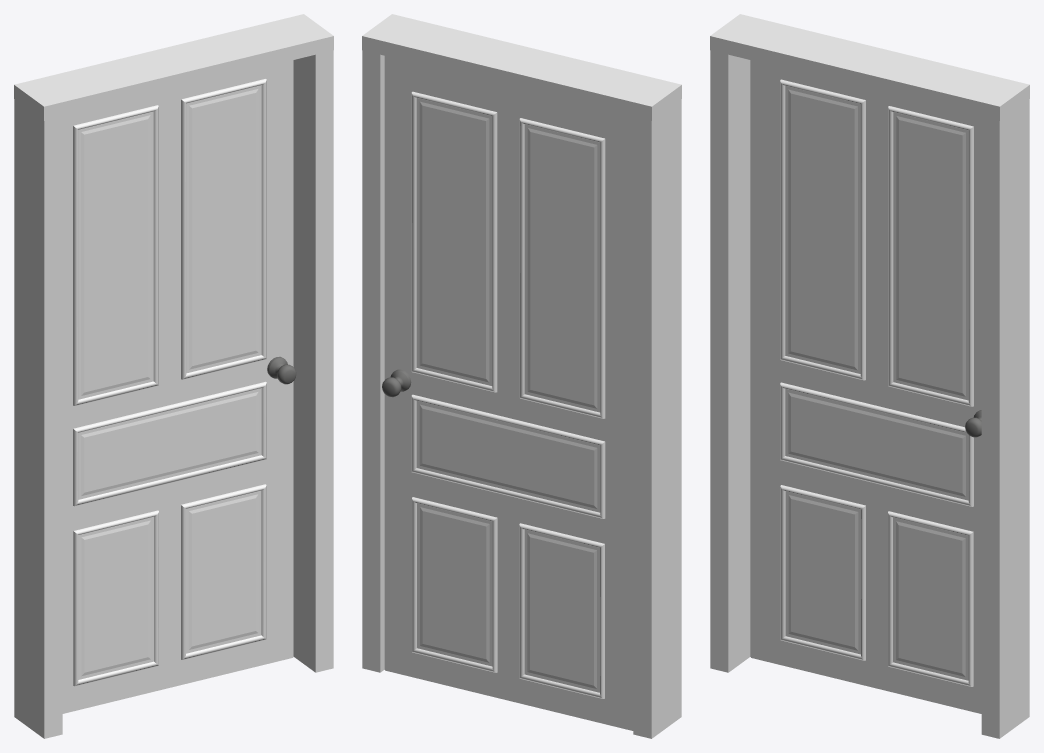
File: Door_01.fbx
3 views of the same model, side by side, from view 1: azimuth 30°, elevation 25°; view 2: azimuth 150°, elevation 25°; view 3: azimuth 330°, elevation 25° (orthographic).
Visible parts, largest first — view 1: Door_01, Door_01_Frame; view 2: Door_01, Door_01_Frame; view 3: Door_01, Door_01_Frame.
Boxes of the visible parts, x1=… form: Door_01: x1=62, y1=60, x2=296, y2=713; Door_01_Frame: x1=14, y1=14, x2=333, y2=738; Door_01: x1=382, y1=56, x2=633, y2=730; Door_01_Frame: x1=362, y1=14, x2=681, y2=738; Door_01: x1=750, y1=60, x2=981, y2=713; Door_01_Frame: x1=710, y1=14, x2=1029, y2=738.
Size of the model in its own units: 1.03 by 2.15 by 0.245.
1 material, 1 textured.
